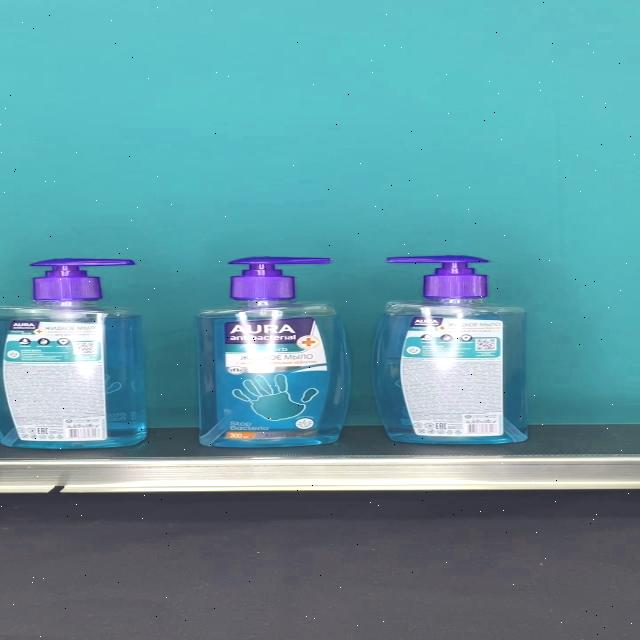Bottle: (195, 256, 352, 448), (372, 256, 528, 444), (0, 259, 147, 448)
Cap: (227, 256, 331, 299), (384, 256, 488, 299), (30, 260, 134, 302)
